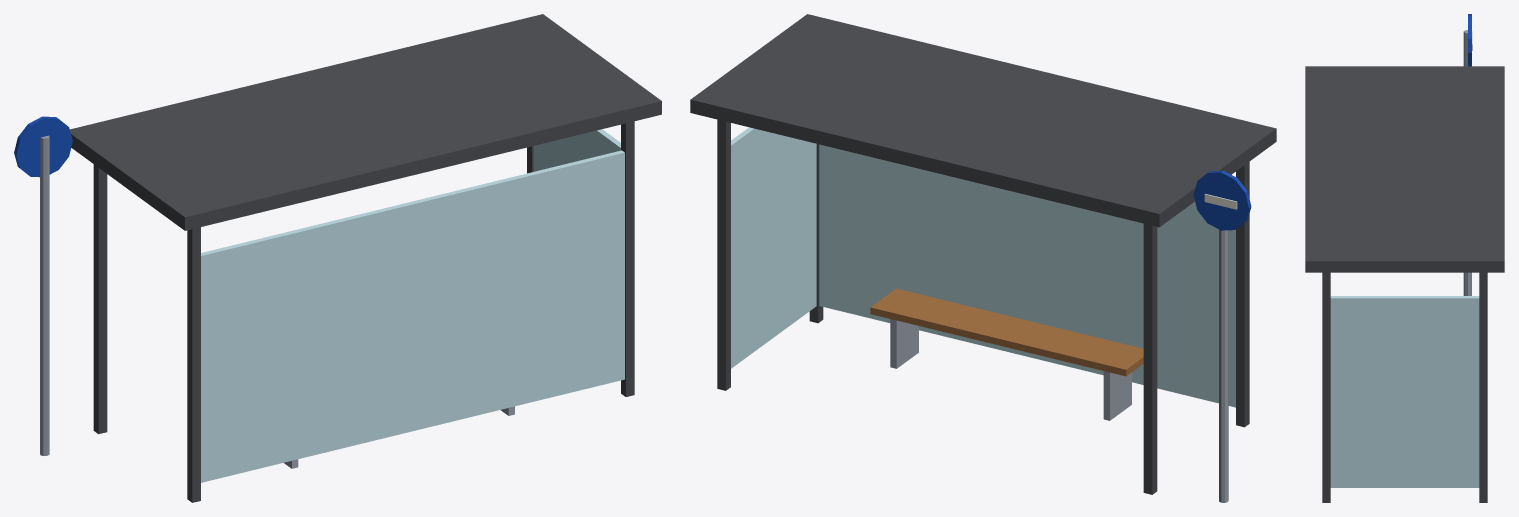
File: Bus_Shelter.fbx
3 renders of one model, left to right at view 1: azimuth 30°, elevation 25°; view 2: azimuth 150°, elevation 25°; view 3: azimuth 270°, elevation 25°, orthographic. The views are drawn at different scales.
Visible parts, largest first — view 1: Bus_Shelter; view 2: Bus_Shelter; view 3: Bus_Shelter.
Part boxes in pixels (box(x1,y1,x2,y2)): Bus_Shelter: box(14, 14, 661, 502); Bus_Shelter: box(690, 14, 1276, 502); Bus_Shelter: box(1305, 14, 1504, 502).
Size of the model in its own units: 5.06 by 2.96 by 1.9.
